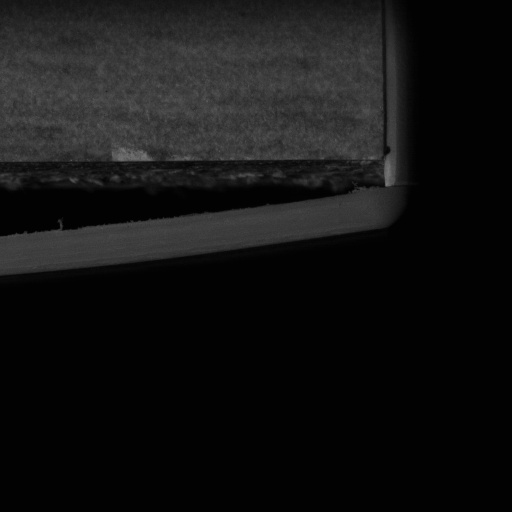kaijiao: (0, 150, 409, 280)
